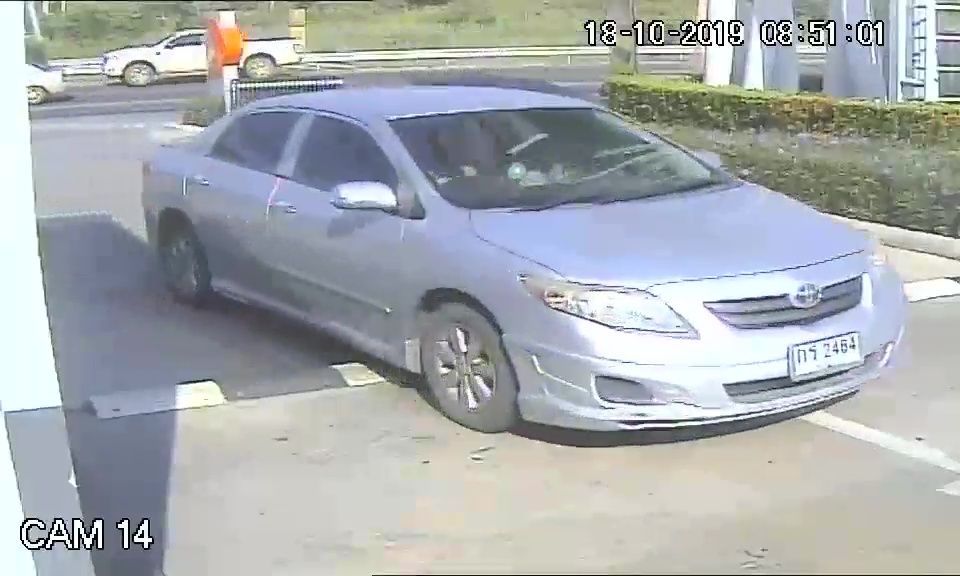sedan: (141, 88, 910, 437)
